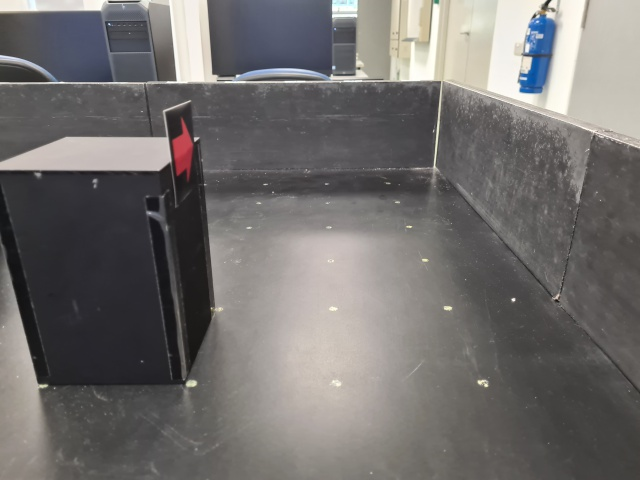left_arrow: (162, 99, 201, 209)
